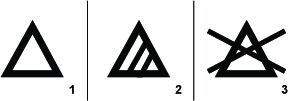do_not_bleach: (202, 13, 291, 82)
